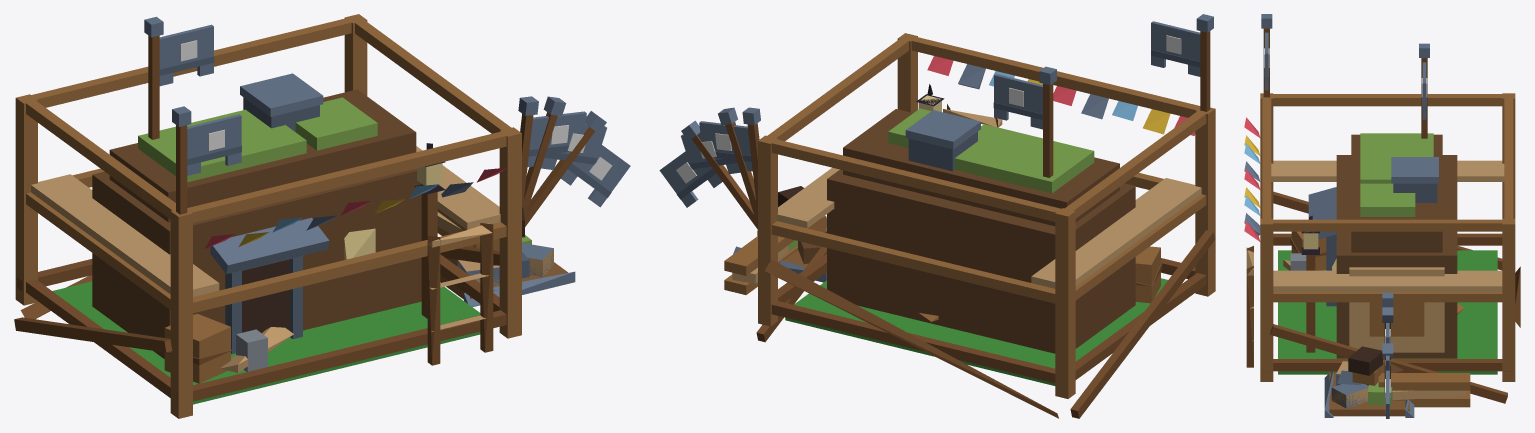
File: raccoon-home.glb
3 renders of one model, left to right at view 1: azimuth 30°, elevation 25°; view 2: azimuth 150°, elevation 25°; view 3: azimuth 270°, elevation 25°, orthographic. The views are drawn at different scales.
Parts seen in each view (by area): view 1: scaffold-mesh, built-mesh, dismantle-75-mesh, dismantle-50-mesh, dismantle-25-mesh, banner, scaffold-banner, dismantle-25-banner, flag-pole, dismantle-75-banner, dismantle-50-banner, dismantle-25-flag-pole (+3 smaller); view 2: scaffold-mesh, dismantle-75-mesh, built-mesh, dismantle-50-mesh, scaffold-banner, dismantle-25-mesh, banner, dismantle-25-banner, dismantle-75-banner, flag-pole, dismantle-25-flag-pole, scaffold-flag-pole (+3 smaller); view 3: scaffold-mesh, built-mesh, dismantle-75-mesh, dismantle-25-mesh, dismantle-50-mesh, flag-pole, scaffold-flag-pole, banner, scaffold-banner.
Boxes of the visible parts, x1,y1,x2,y2 form: scaffold-mesh: (14,14,521,418); built-mesh: (92,73,445,371); dismantle-75-mesh: (92,178,575,383); dismantle-50-mesh: (145,228,574,383); dismantle-25-mesh: (92,207,574,382); banner: (159,24,214,86); scaffold-banner: (187,114,241,175); dismantle-25-banner: (561,137,630,207); flag-pole: (144,16,163,139); dismantle-75-banner: (527,111,586,166); dismantle-50-banner: (541,122,606,175); dismantle-25-flag-pole: (524,111,606,226); scaffold-mesh: (724,33,1215,418); dismantle-75-mesh: (757,185,1160,353); built-mesh: (785,84,1135,385); dismantle-50-mesh: (737,231,1160,352); scaffold-banner: (1151,21,1200,76); dismantle-25-mesh: (733,186,1160,353); banner: (993,74,1042,129); dismantle-25-banner: (659,147,722,207); dismantle-75-banner: (699,121,752,171); flag-pole: (1039,66,1056,177); dismantle-25-flag-pole: (681,120,757,229); scaffold-flag-pole: (1196,14,1213,111); scaffold-mesh: (1244,93,1520,407); built-mesh: (1301,133,1457,352); dismantle-75-mesh: (1290,231,1444,417); dismantle-25-mesh: (1292,235,1464,417); dismantle-50-mesh: (1278,231,1497,415); flag-pole: (1419,43,1429,138); scaffold-flag-pole: (1261,14,1272,97); banner: (1421,62,1427,119); scaffold-banner: (1264,32,1269,90).
Bounding box in the file's own units: 2.65 × 1.55 × 1.51.
